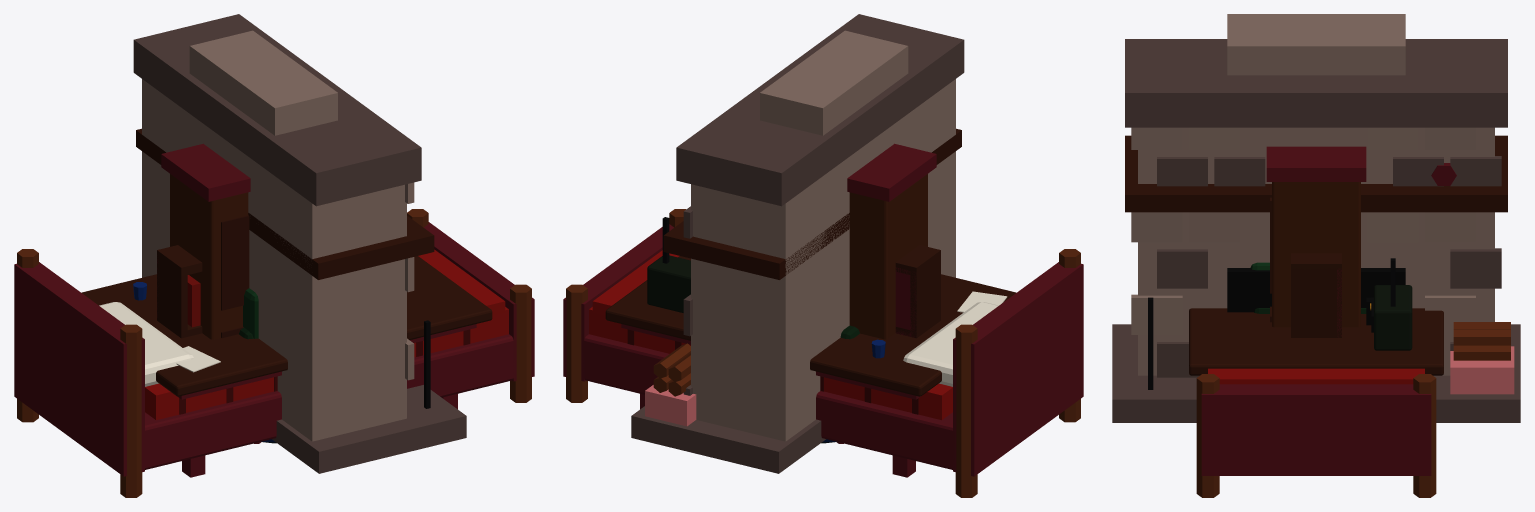
File: rs_lodge_furniture.glb
The picture shows the model from 3 angles, left to right: view 1: azimuth 30°, elevation 25°; view 2: azimuth 150°, elevation 25°; view 3: azimuth 270°, elevation 25°; orthographic projection. The views are drawn at different scales.
Parts seen in each view (by area): view 1: hearth, bunk, table, wardrobe, shelf, armchair; view 2: hearth, bunk, table, wardrobe, shelf; view 3: hearth, bunk, table, wardrobe, shelf.
Boxes of the visible parts, <box> form: hearth: <box>133,14,466,473</box>; bunk: <box>14,209,534,497</box>; table: <box>81,256,492,477</box>; wardrobe: <box>161,143,250,339</box>; shelf: <box>157,245,202,338</box>; armchair: <box>239,288,261,443</box>; hearth: <box>631,14,964,473</box>; bunk: <box>563,209,1083,497</box>; table: <box>605,217,1016,477</box>; wardrobe: <box>847,143,936,339</box>; shelf: <box>895,245,940,338</box>; hearth: <box>1112,14,1520,422</box>; bunk: <box>1196,368,1436,497</box>; table: <box>1189,258,1443,375</box>; wardrobe: <box>1266,146,1366,327</box>; shelf: <box>1291,253,1341,337</box>.
Size of the model in its own units: 3.9 by 3.37 by 3.2.
